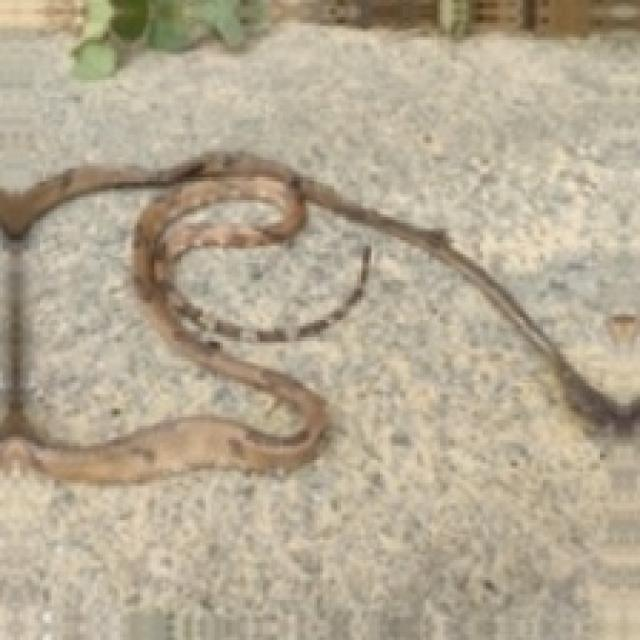dog-toothed cat snake: (0, 151, 637, 480)
